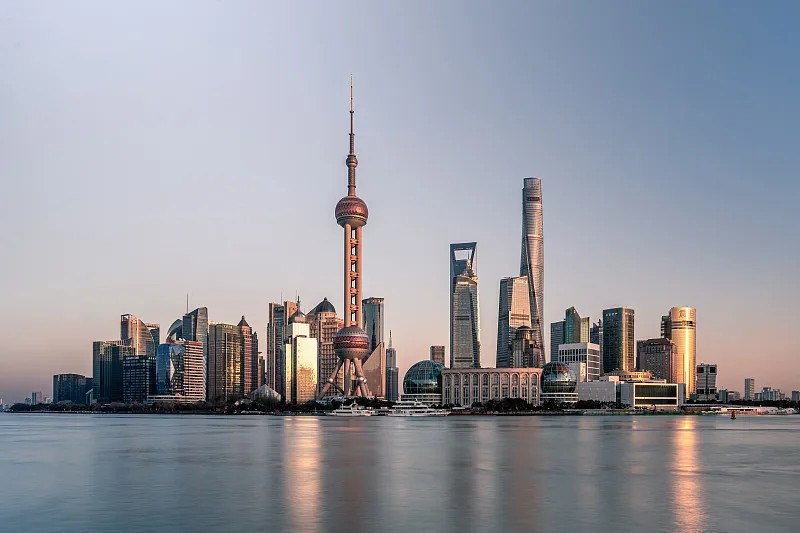Oriental: (318, 73, 372, 397)
